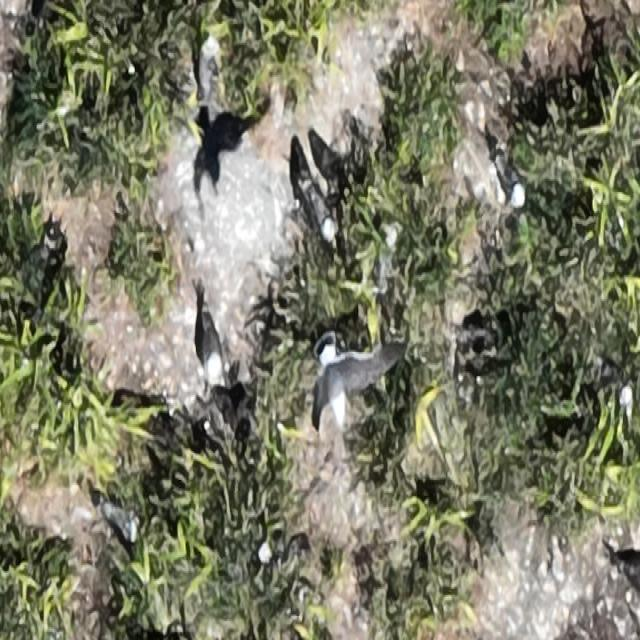F: (307, 339, 389, 431)
umineko: (492, 140, 529, 209), (301, 176, 336, 243), (199, 307, 223, 386), (197, 29, 219, 97)
